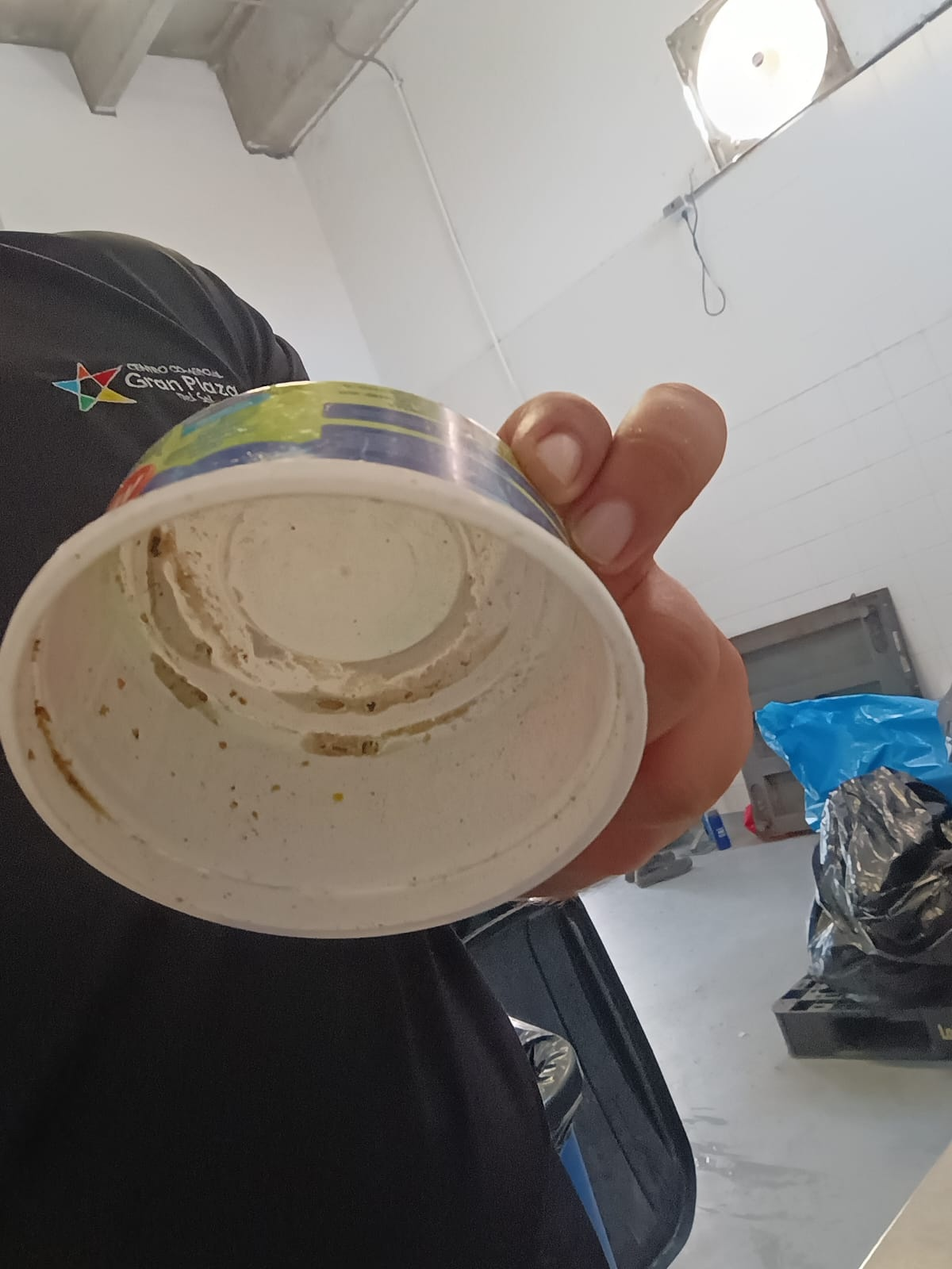Plastico: (0, 382, 650, 940)
